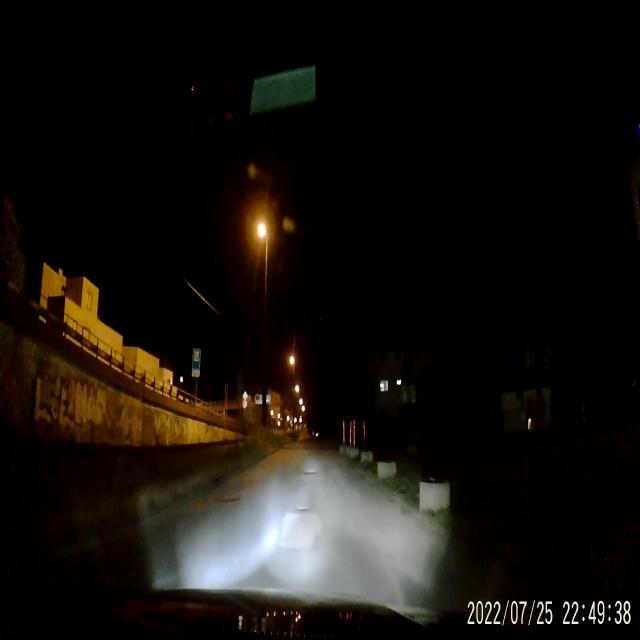Pothole: (210, 495, 240, 505), (296, 500, 310, 516), (301, 469, 318, 477)
